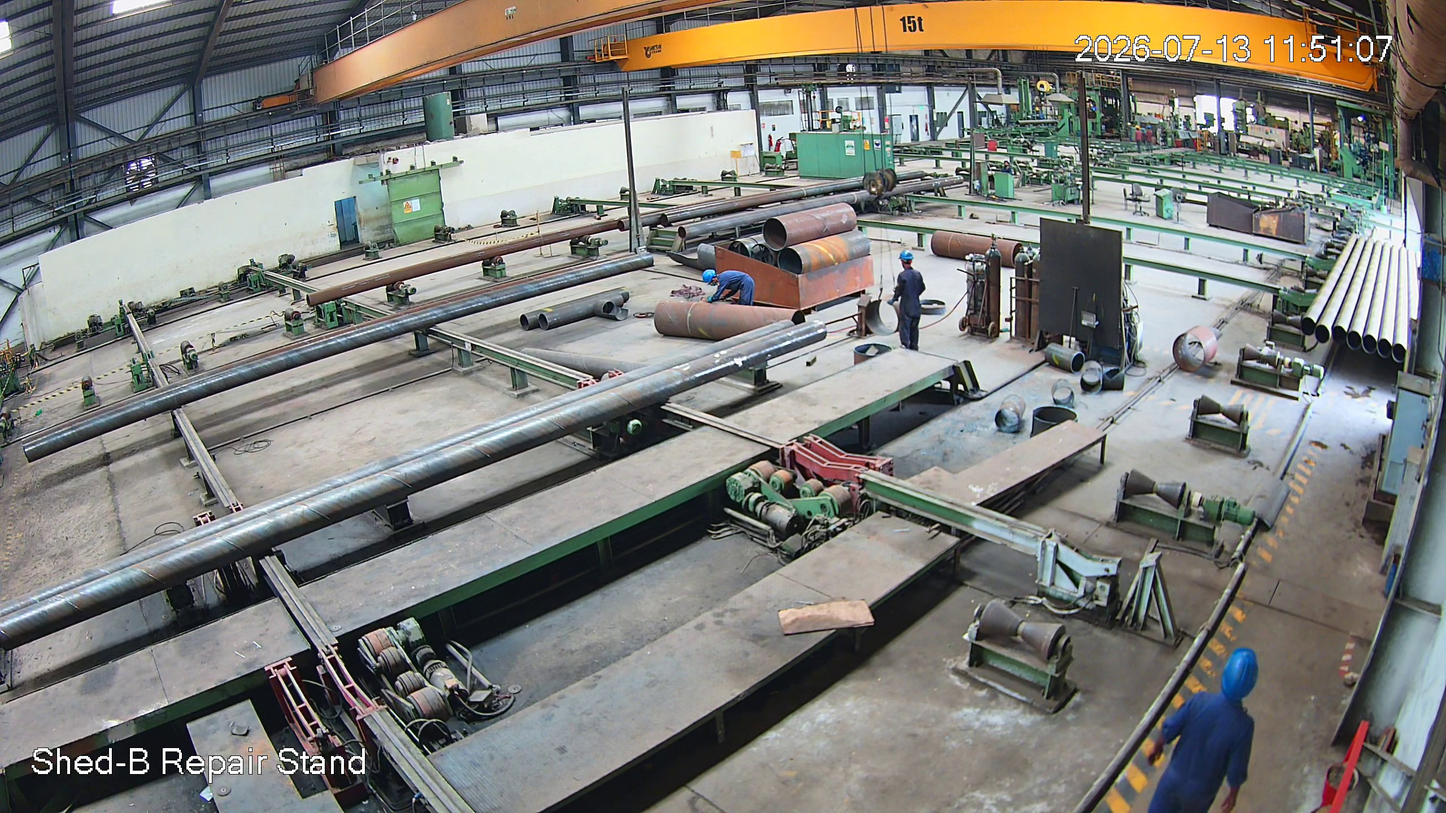Helmet: (1210, 645, 1262, 717), (895, 247, 919, 272), (701, 267, 723, 286)
Person: (1148, 649, 1273, 813), (893, 249, 925, 353), (703, 268, 757, 311)
